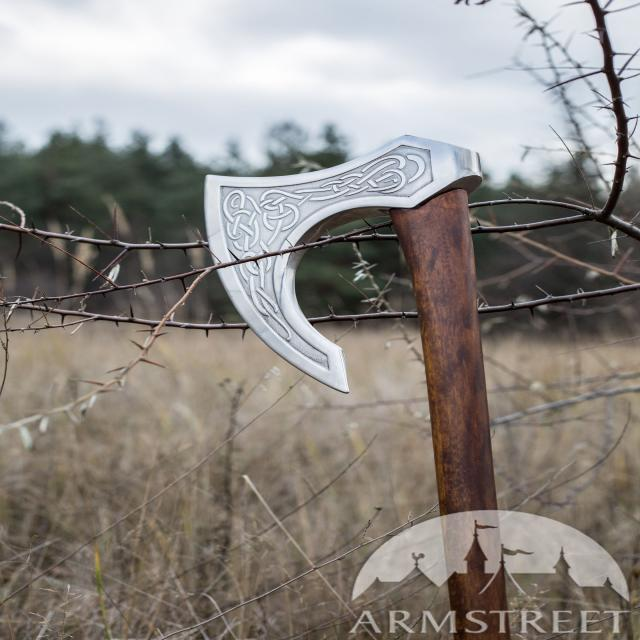axe: (202, 136, 494, 640)
